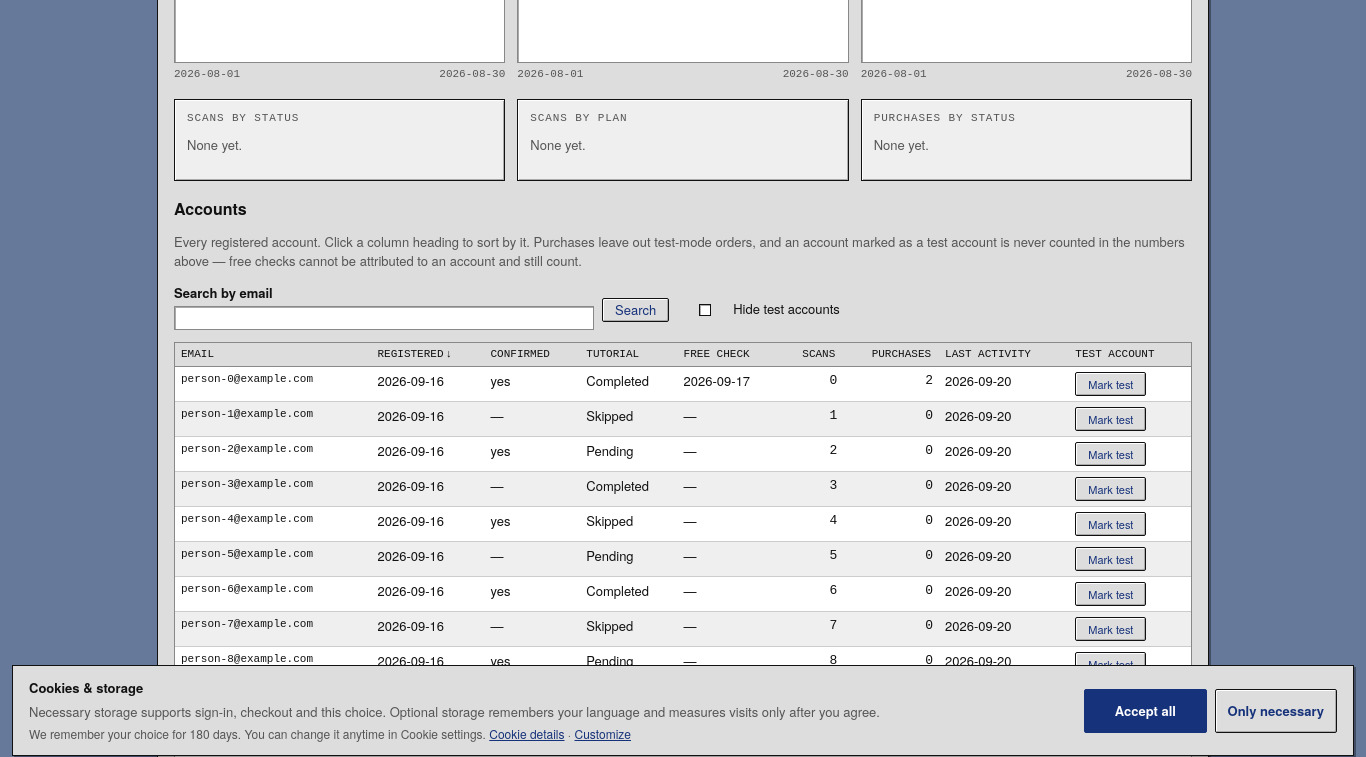
Test: owner dashboard accounts list › keeps the toggle quiet while its change is on its way
The image size is (1366, 757).
(page scrolled)
Click the button with aria-label "Mark person-0@example.com as a test account".
click(1111, 384)  # box [1075,372,1146,396]
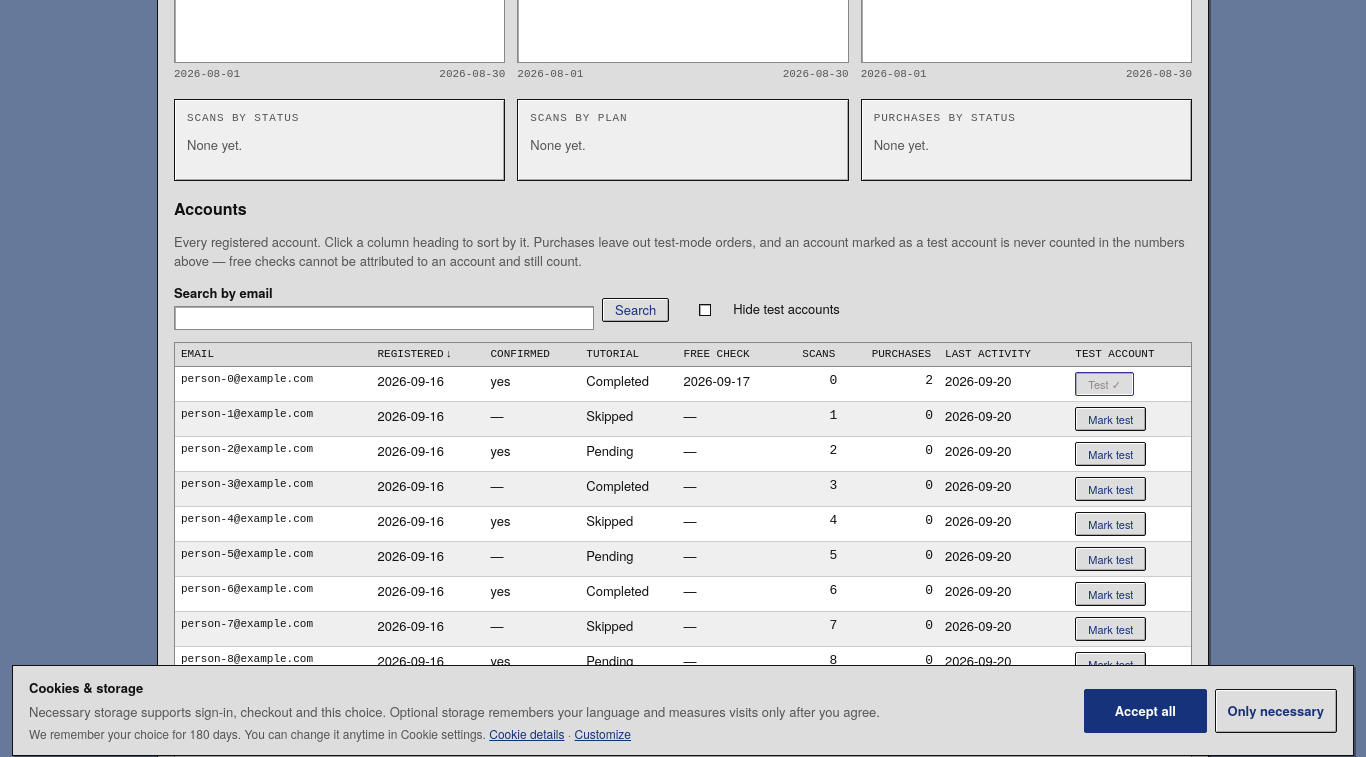
Now the button with aria-label "Mark person-0@example.com as a test account" is disabled
A second click while the answer is pending must not fire another PATCH.
Click the button with aria-label "Mark person-0@example.com as a test account".
click(1105, 384)  # box [1075,372,1134,396]
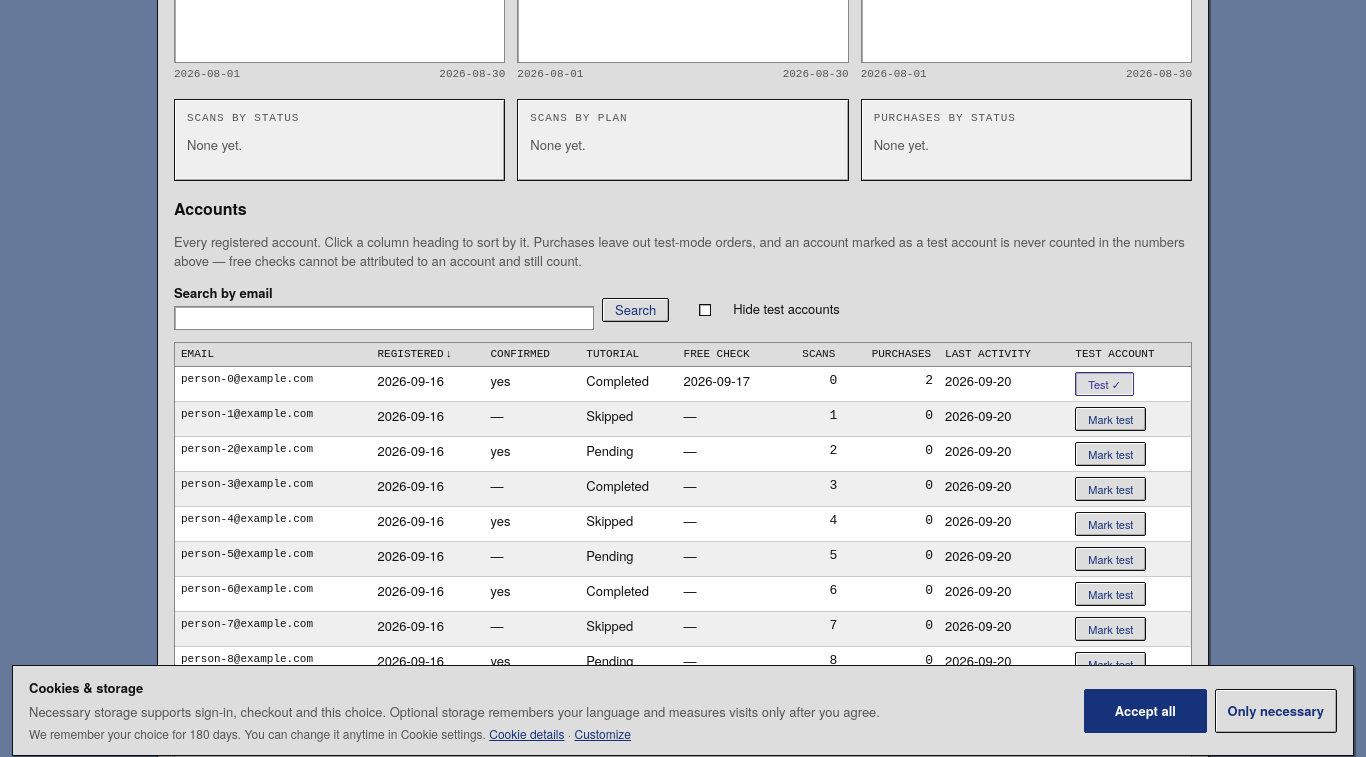
Now the button with aria-label "Mark person-0@example.com as a test account" is enabled, box [1075,372,1134,396]
